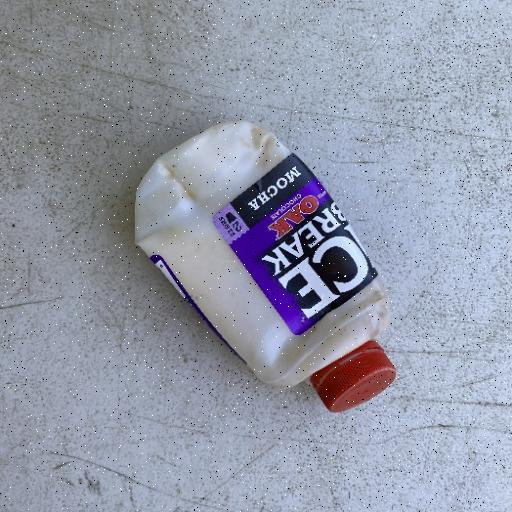Plastic: (131, 118, 399, 414)
